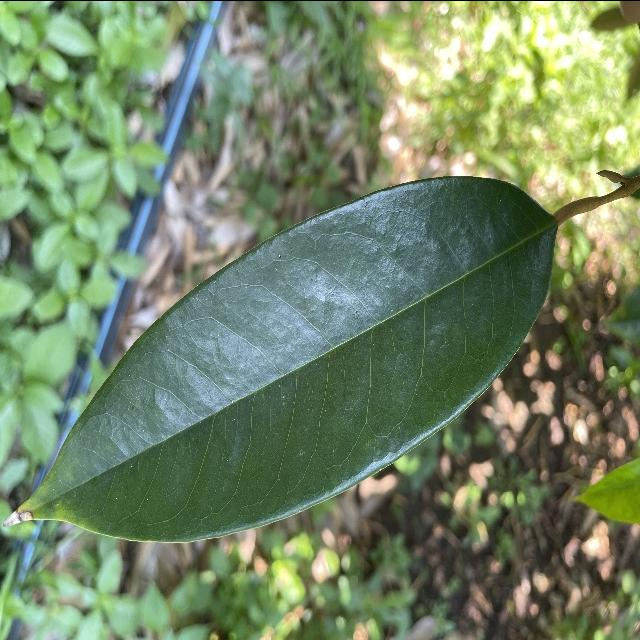No Disease: (0, 167, 567, 550)
